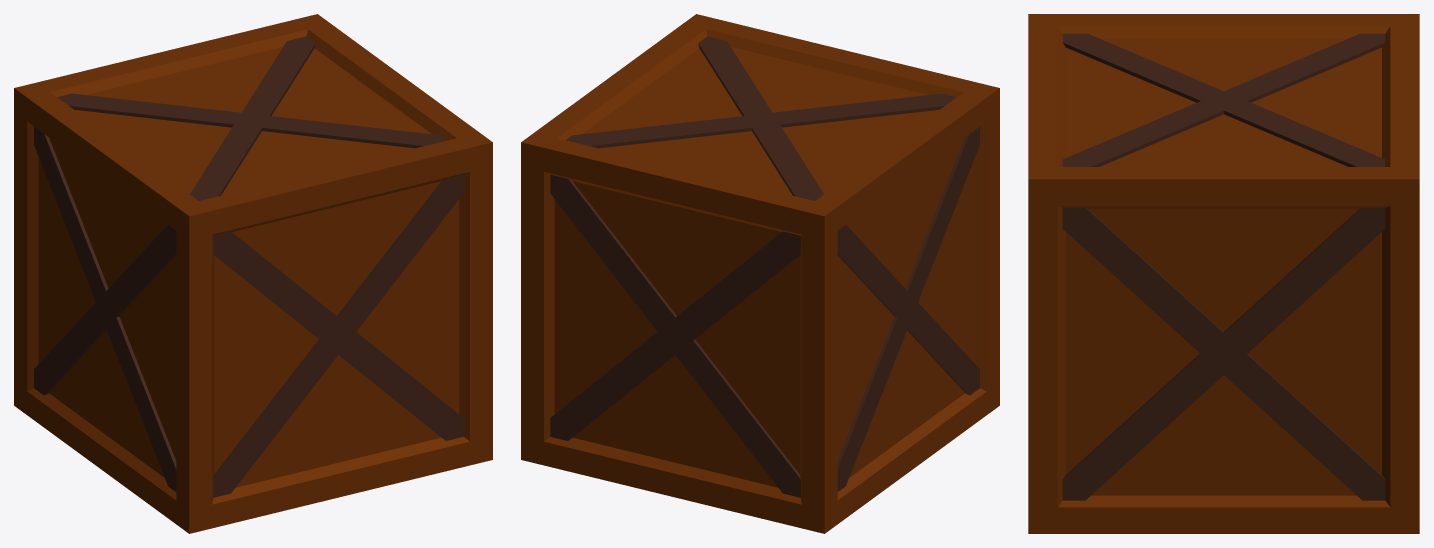
3 renders of one model, left to right at view 1: azimuth 30°, elevation 25°; view 2: azimuth 150°, elevation 25°; view 3: azimuth 270°, elevation 25°, orthographic. The views are drawn at different scales.
Parts seen in each view (by area): view 1: Cube; view 2: Cube; view 3: Cube.
Part boxes in pixels (x1=…): Cube: x1=14, y1=14, x2=492, y2=533; Cube: x1=521, y1=14, x2=999, y2=533; Cube: x1=1028, y1=14, x2=1419, y2=533.
Size of the model in its own units: 0.8109 by 0.8109 by 0.8109.
